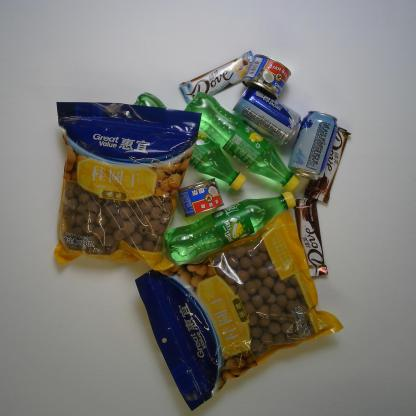Alcohol: (232, 84, 303, 146), (288, 110, 338, 182)
Canned Food: (241, 54, 292, 100), (177, 176, 225, 218)
Chocolate: (179, 50, 256, 107), (304, 126, 352, 205), (294, 198, 328, 278)
Dried Food: (134, 208, 344, 411), (52, 101, 202, 273)
Drink: (182, 90, 301, 192), (128, 91, 248, 191), (163, 191, 296, 263)
